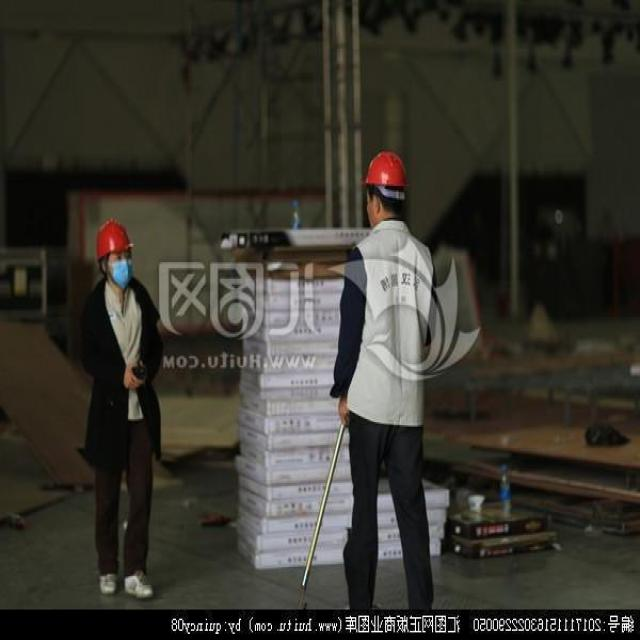helmet: (360, 146, 416, 192), (96, 216, 134, 264)
